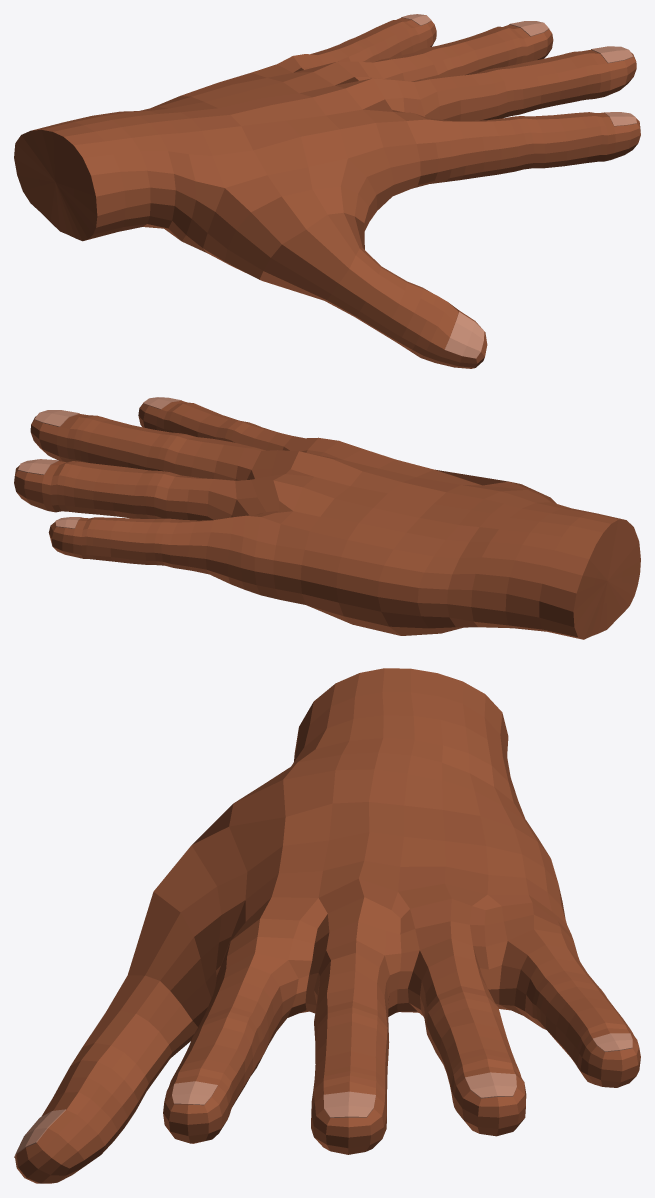
The model's file is hand_elevator.fbx.
The picture shows the model from 3 angles, top to bottom: view 1: azimuth 30°, elevation 25°; view 2: azimuth 150°, elevation 25°; view 3: azimuth 270°, elevation 25°; orthographic projection. The views are drawn at different scales.
Visible parts, largest first — view 1: node_id6 (×2); view 2: node_id6 (×2); view 3: node_id6 (×2).
Boxes of the visible parts, left/top/right/bottom form: node_id6 (×2): left=14, top=14, right=640, bottom=368; node_id6 (×2): left=14, top=397, right=640, bottom=639; node_id6 (×2): left=14, top=668, right=640, bottom=1183.
Size of the model in its own units: 0.774 by 0.2819 by 0.512.
